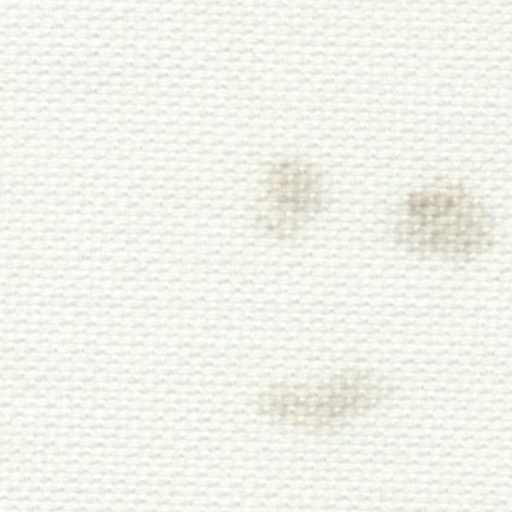WuZi: (249, 342, 404, 443), (382, 158, 502, 278), (237, 140, 341, 244)
